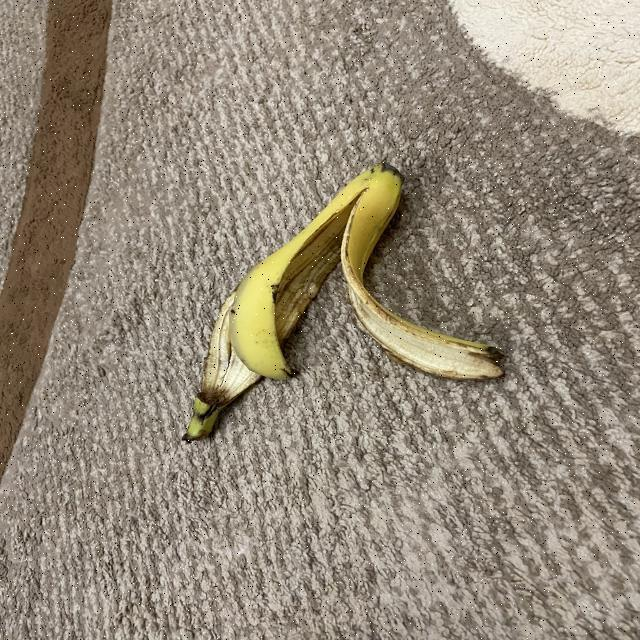banana-peel: (180, 159, 506, 442)
